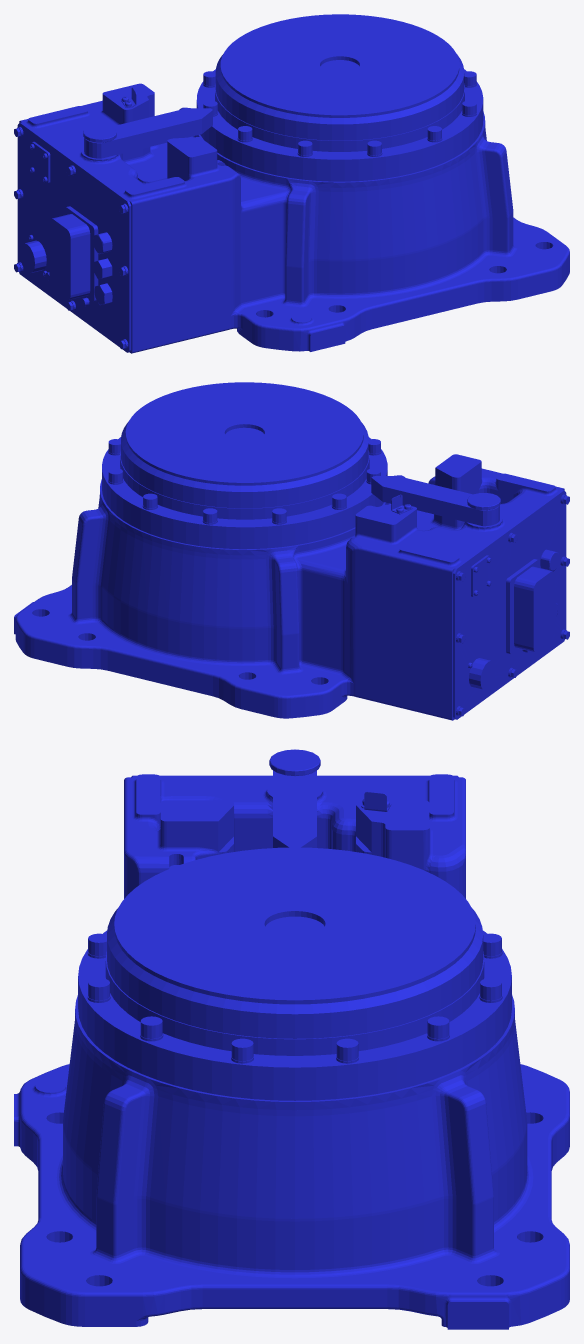
Rendered from BaseLink.dae.
The picture shows the model from 3 angles, top to bottom: view 1: azimuth 30°, elevation 25°; view 2: azimuth 150°, elevation 25°; view 3: azimuth 270°, elevation 25°; orthographic projection. The views are drawn at different scales.
Visible parts, largest first — view 1: BaseLink; view 2: BaseLink; view 3: BaseLink.
Part boxes in pixels (bbox=[...]): BaseLink: bbox=[14, 14, 569, 353]; BaseLink: bbox=[14, 382, 569, 720]; BaseLink: bbox=[14, 749, 569, 1329].
Bounding box in the file's own units: 0.6449 × 0.455 × 0.259.
